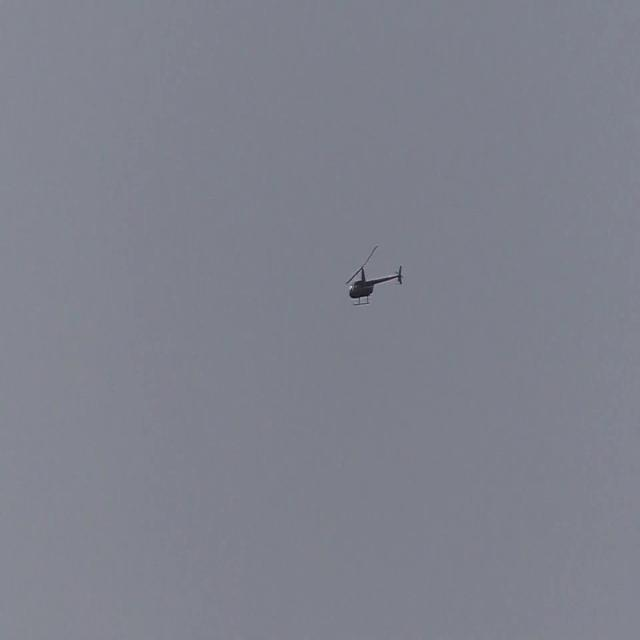CIV_HELO: (349, 263, 405, 306)
